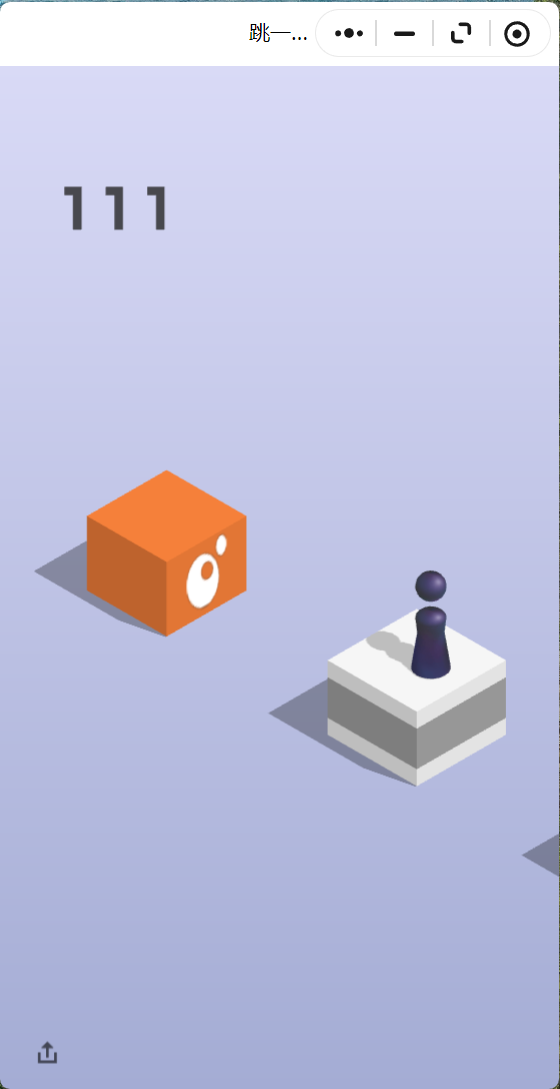piece: (415, 570, 446, 674)
target: (86, 470, 246, 561)
